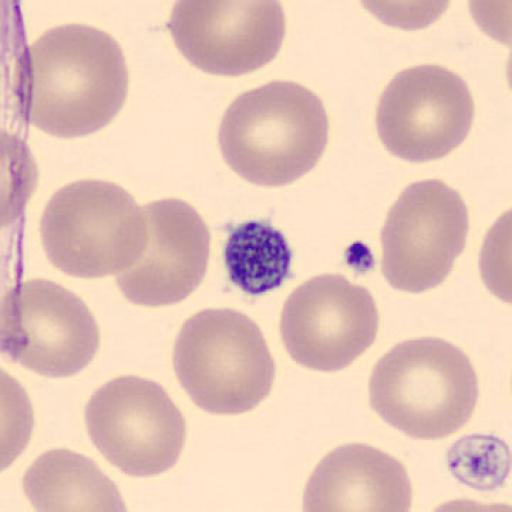Platelet: (220, 216, 296, 297), (442, 430, 512, 494)
RBC: (216, 78, 330, 190), (25, 21, 130, 141), (367, 334, 481, 442), (170, 306, 278, 418), (82, 372, 188, 480), (38, 178, 150, 280), (113, 196, 213, 308), (378, 176, 472, 295), (372, 61, 476, 166), (277, 271, 381, 375), (0, 275, 102, 381), (168, 0, 287, 79), (300, 438, 414, 512), (21, 444, 131, 512), (0, 129, 37, 286), (0, 128, 41, 230), (476, 204, 512, 308), (2, 368, 36, 474), (355, 0, 454, 34), (468, 0, 512, 48), (413, 495, 511, 512), (503, 33, 512, 124)
